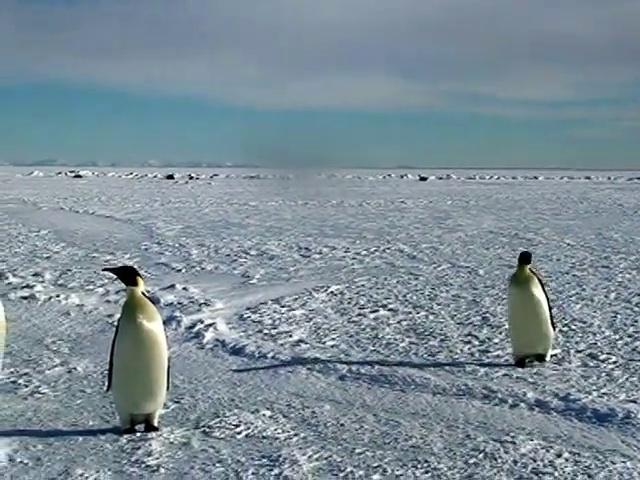animal: (103, 265, 167, 431)
